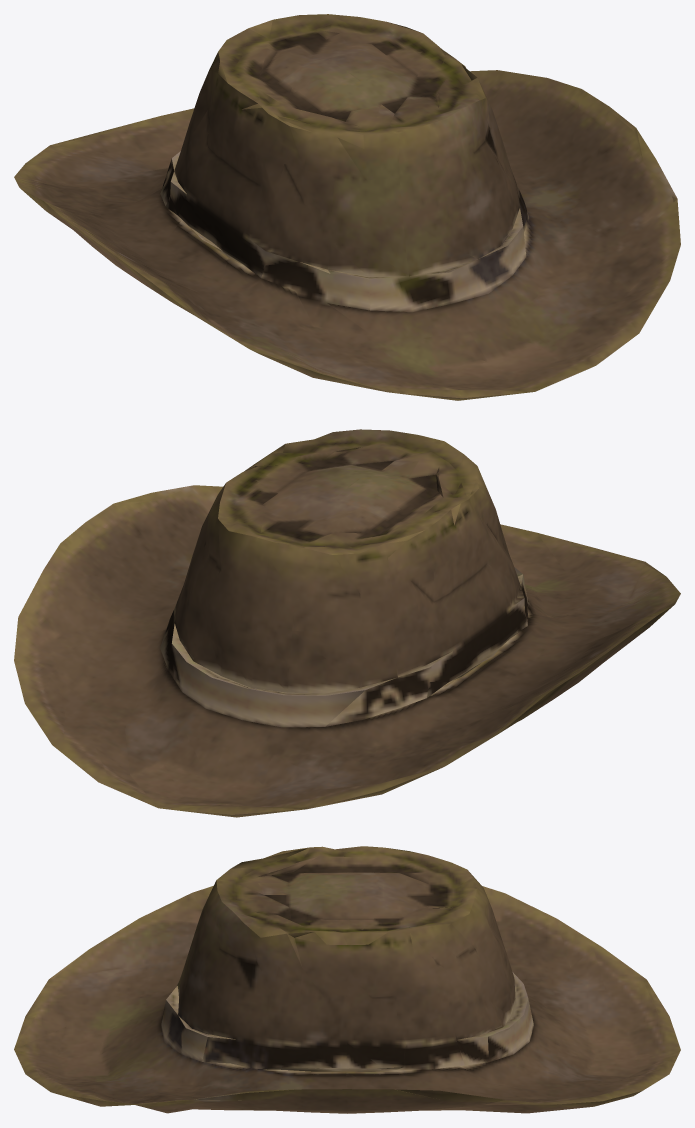
File: wear_cowboy2.glb
3 renders of one model, top to bottom at view 1: azimuth 30°, elevation 25°; view 2: azimuth 150°, elevation 25°; view 3: azimuth 270°, elevation 25°, orthographic. The views are drawn at different scales.
Parts seen in each view (by area): view 1: mesh; view 2: mesh; view 3: mesh.
Boxes of the visible parts, x1,y1,x2,y2 form: mesh: (14,14,680,400); mesh: (14,429,680,817); mesh: (14,846,680,1113).
Size of the model in its own units: 0.407 by 0.14 by 0.5073.
Materials: 1 (1 with a texture image).
